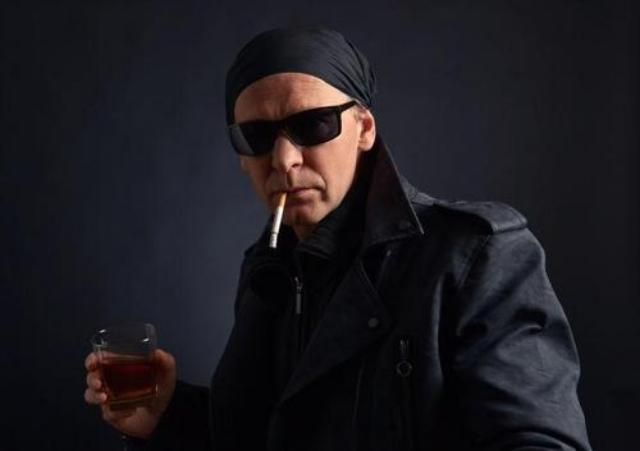Smoking: (263, 191, 291, 251)
